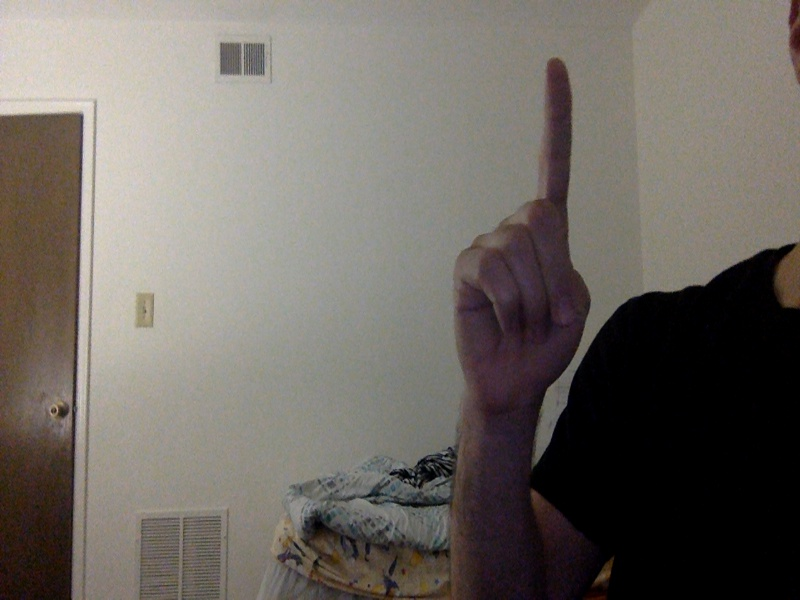1-hand: (450, 57, 592, 404)
